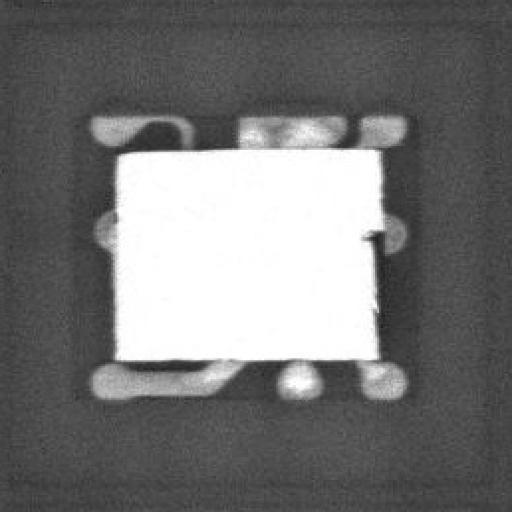DIE_BROKEN: (357, 224, 383, 358)
